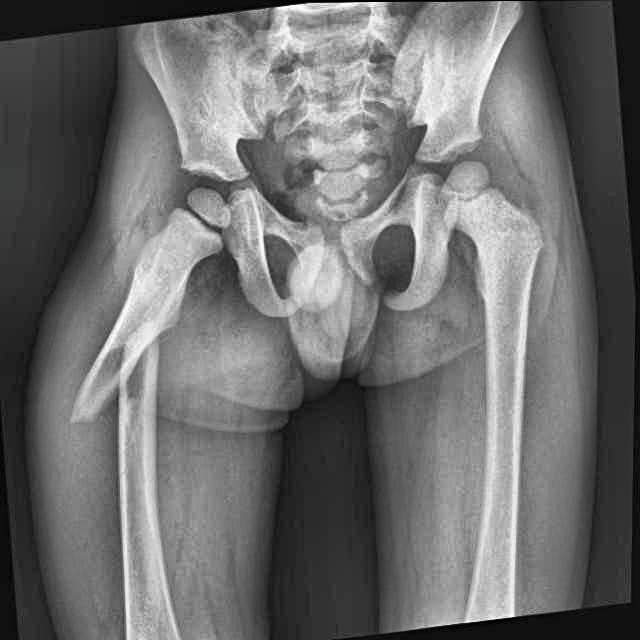Oblique: (64, 304, 186, 449)
